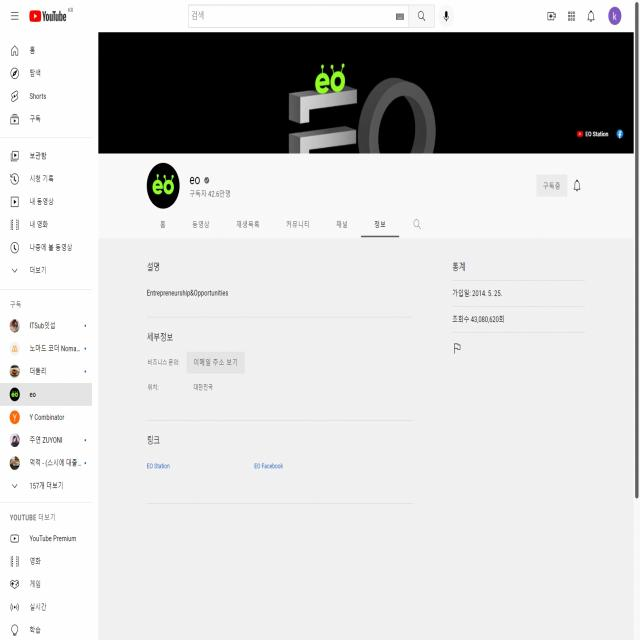menu-bar: (539, 3, 626, 29)
menu-panel: (143, 214, 430, 242)
search: (186, 2, 437, 29)
